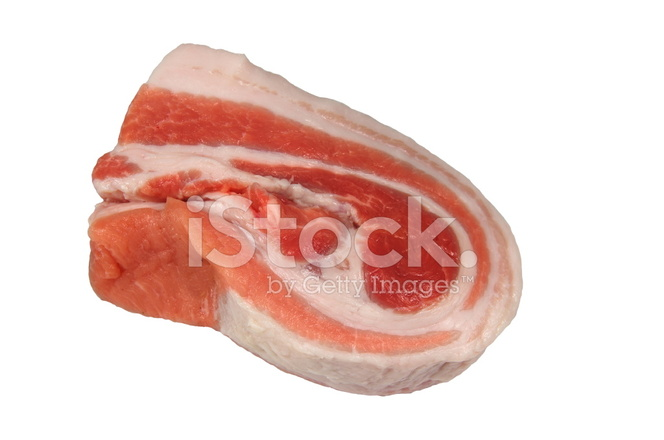bacon: (71, 27, 552, 404)
